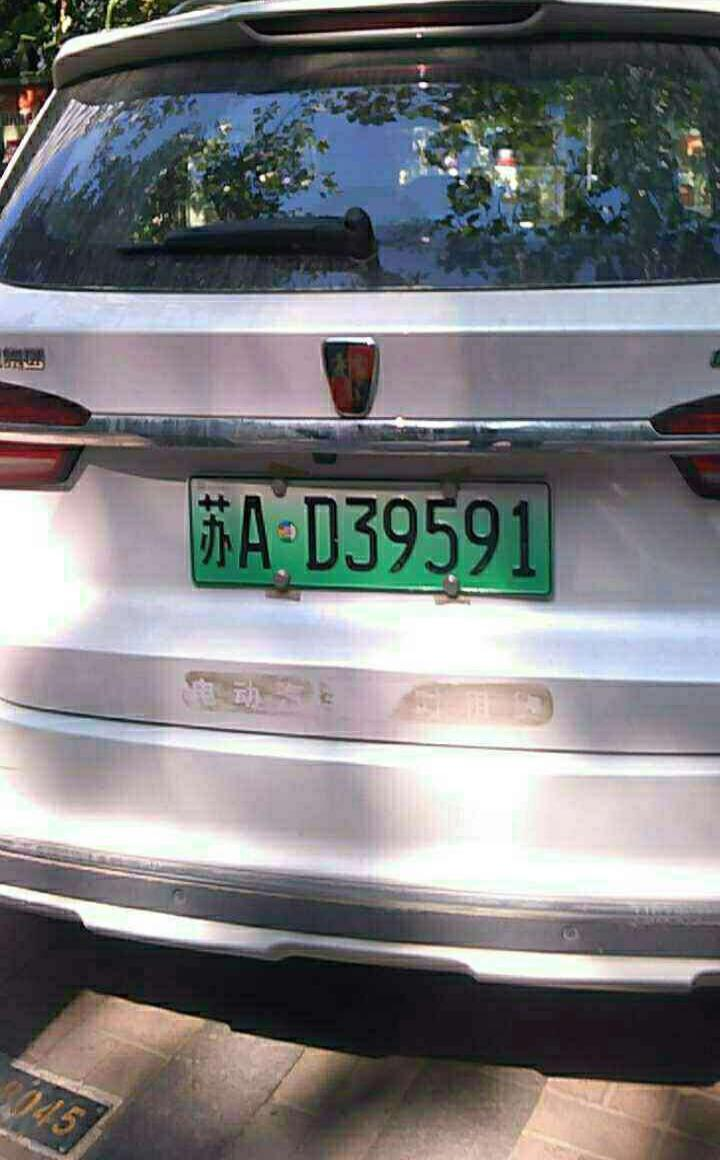car_id: (182, 476, 555, 590)
